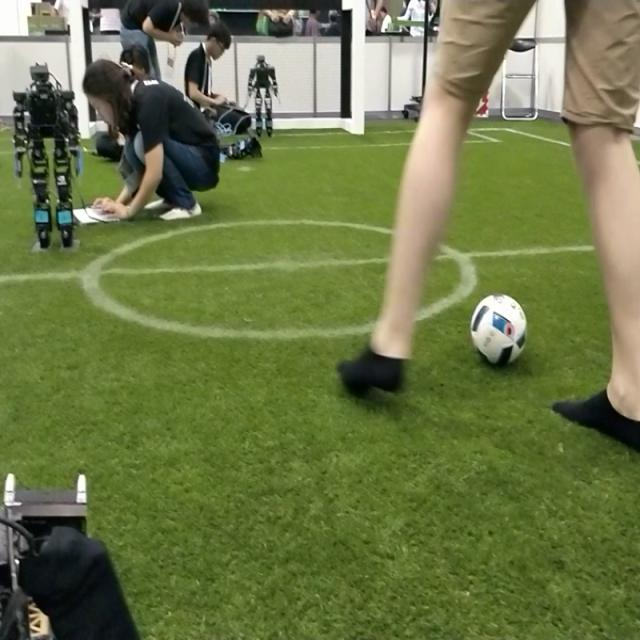ball: (472, 293, 526, 367)
goalpost: (66, 0, 92, 141), (352, 2, 366, 135)
